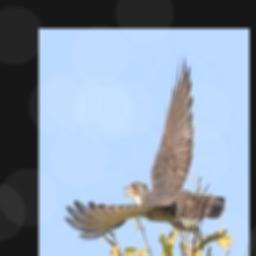Cuckoo: (65, 53, 226, 237)
